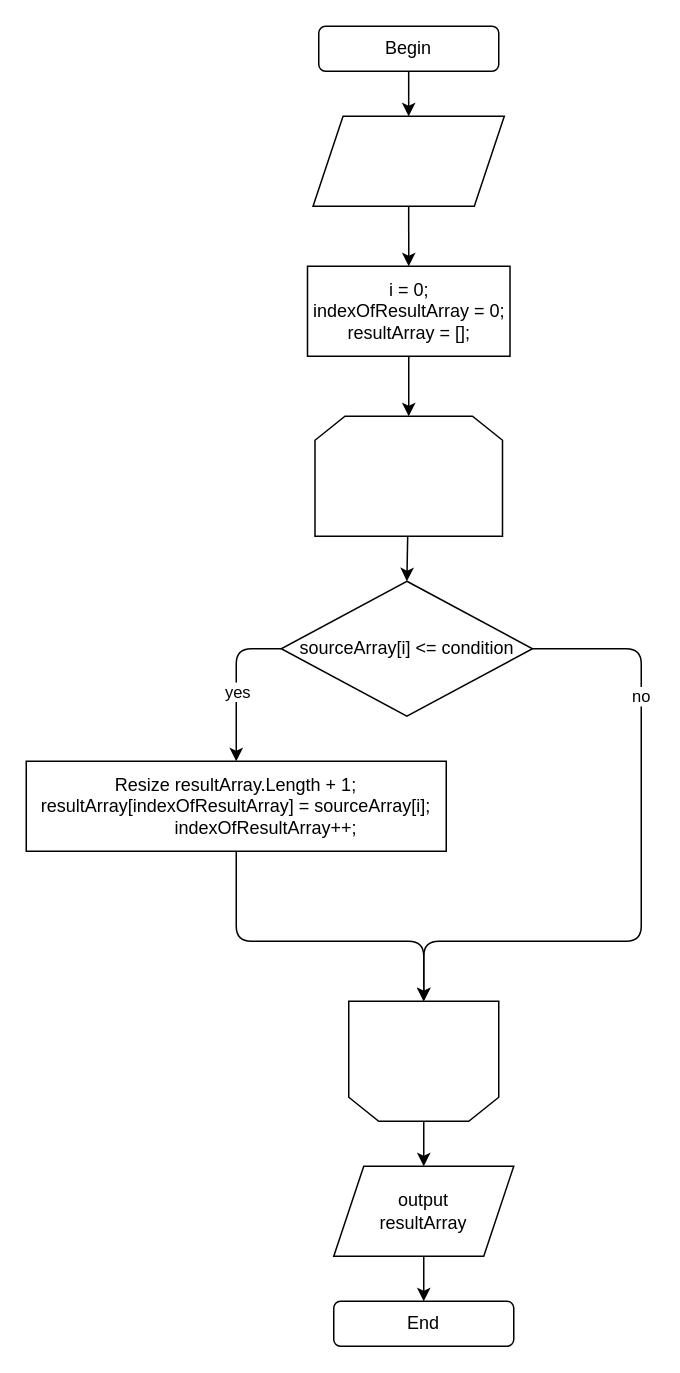
This 680x1373 diagram has some shape labels left out. Each missing label, with the centre of its shape:
Cycle i from 0 to sourceArray.Length: pixel 408 475
i++ Cycle i: pixel 423 1060
Input sourceArray[], condition: pixel 408 160
